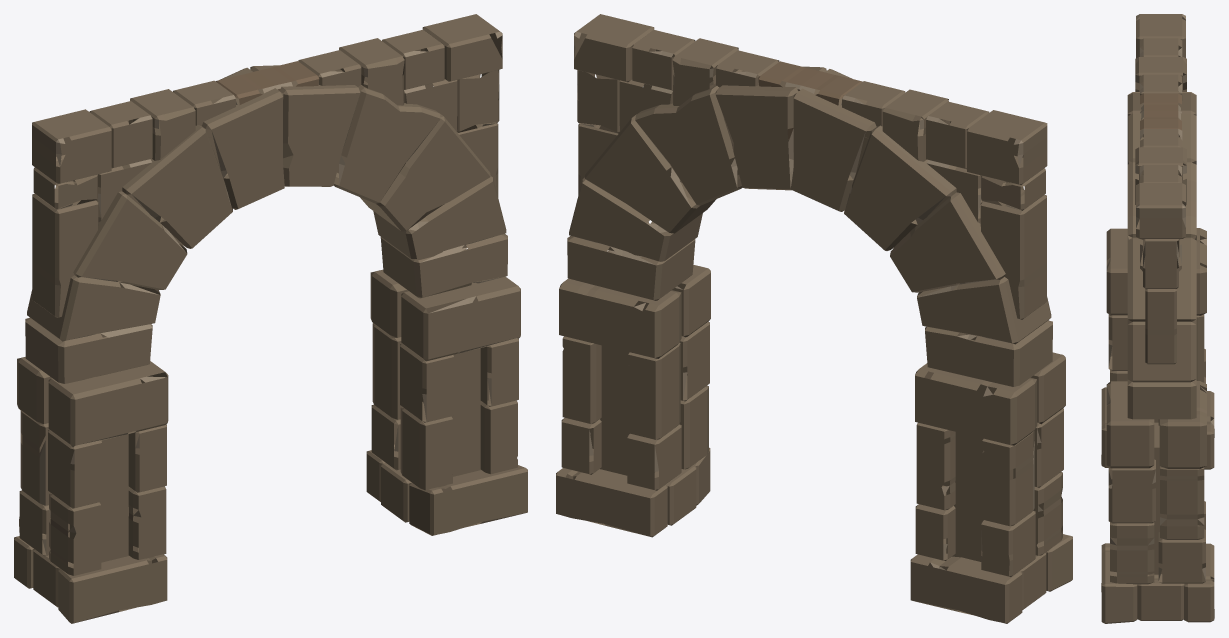
Rendered from arch.glb.
3 views of the same model, side by side, from view 1: azimuth 30°, elevation 25°; view 2: azimuth 150°, elevation 25°; view 3: azimuth 270°, elevation 25° (orthographic). The views are drawn at different scales.
Visible parts, largest first — view 1: Arch; view 2: Arch; view 3: Arch.
Part boxes in pixels (bbox=[...]): Arch: bbox=[14, 14, 527, 623]; Arch: bbox=[556, 14, 1072, 623]; Arch: bbox=[1101, 14, 1214, 623].
Size of the model in its own units: 4.1 by 4.01 by 0.9926.
